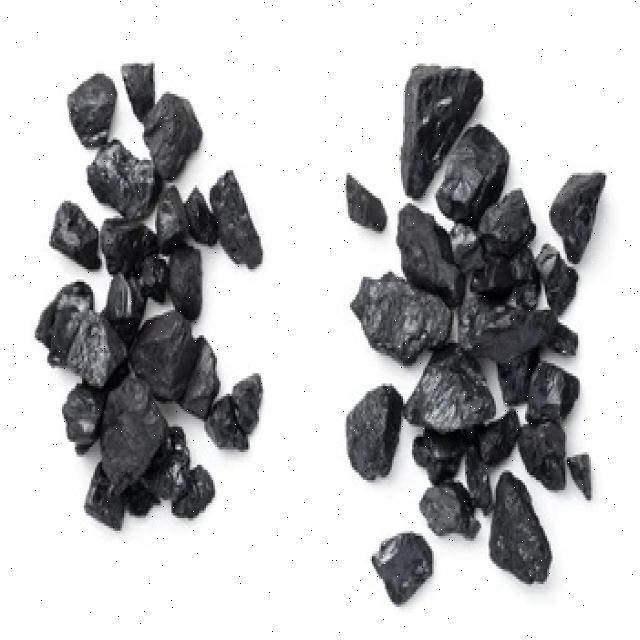Sedimentary: (330, 41, 618, 610), (36, 53, 262, 541)
